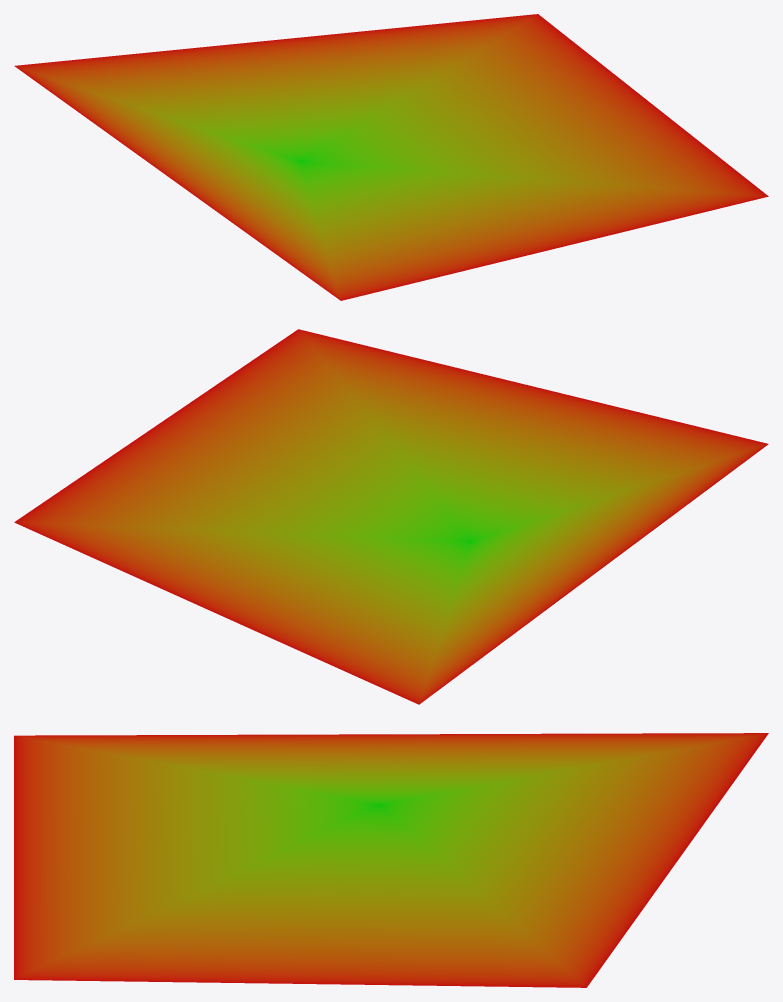
The model's file is Var7_LOD3.fbx.
3 views of the same model, one above another, from view 1: azimuth 30°, elevation 25°; view 2: azimuth 150°, elevation 25°; view 3: azimuth 270°, elevation 25° (orthographic). The views are drawn at different scales.
Parts seen in each view (by area): view 1: _fc31_Var7_LOD3; view 2: _fc31_Var7_LOD3; view 3: _fc31_Var7_LOD3.
Boxes of the visible parts, x1,y1,x2,y2 form: _fc31_Var7_LOD3: (14, 14, 768, 300); _fc31_Var7_LOD3: (14, 329, 768, 704); _fc31_Var7_LOD3: (14, 733, 768, 987).
Size of the model in its own units: 38.1 by 0.2542 by 47.71.
